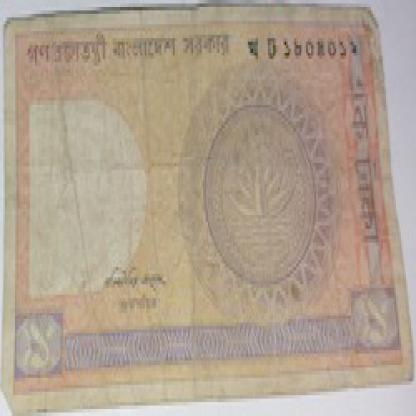One Taka: (344, 70, 388, 256), (17, 315, 65, 378), (351, 291, 399, 350)
